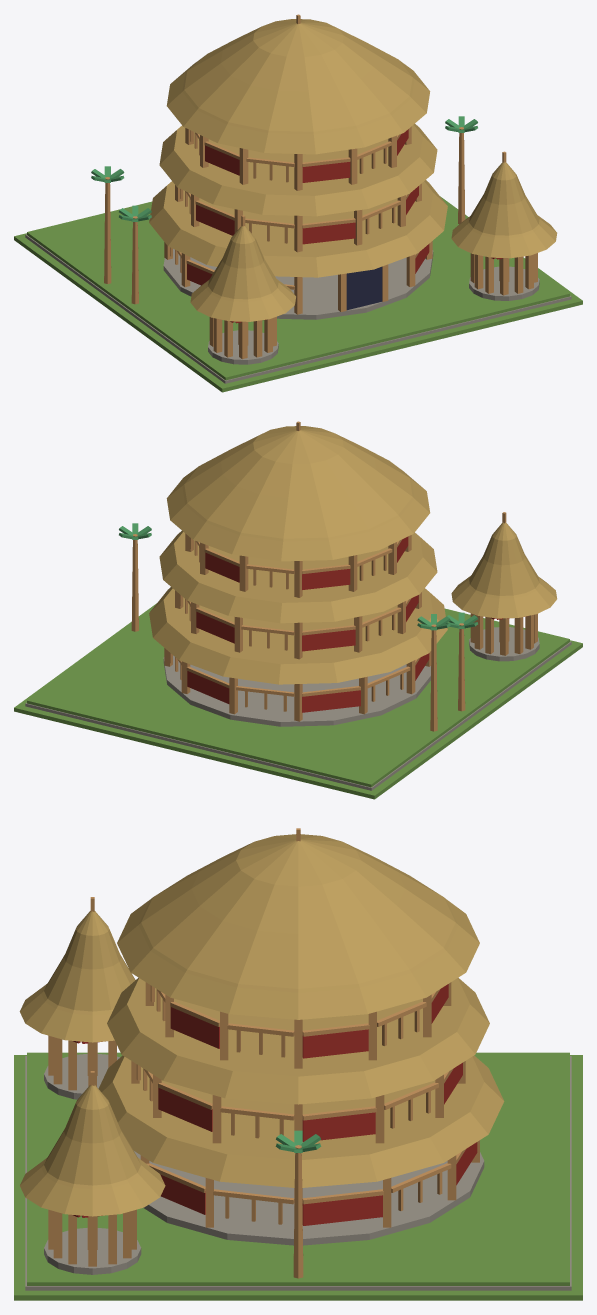
File: house-2x2-3f-fale-a.glb
3 renders of one model, top to bottom at view 1: azimuth 30°, elevation 25°; view 2: azimuth 150°, elevation 25°; view 3: azimuth 270°, elevation 25°, orthographic. The views are drawn at different scales.
Visible parts, largest first — view 1: house-2x2-3f-fale-a; view 2: house-2x2-3f-fale-a; view 3: house-2x2-3f-fale-a.
Part boxes in pixels (x1,y1,x2,y2): house-2x2-3f-fale-a: (14, 14, 582, 392); house-2x2-3f-fale-a: (14, 421, 582, 799); house-2x2-3f-fale-a: (14, 828, 582, 1300).
Size of the model in its own units: 1.99 by 1.36 by 1.99.
Materials: 1 (1 with a texture image).
